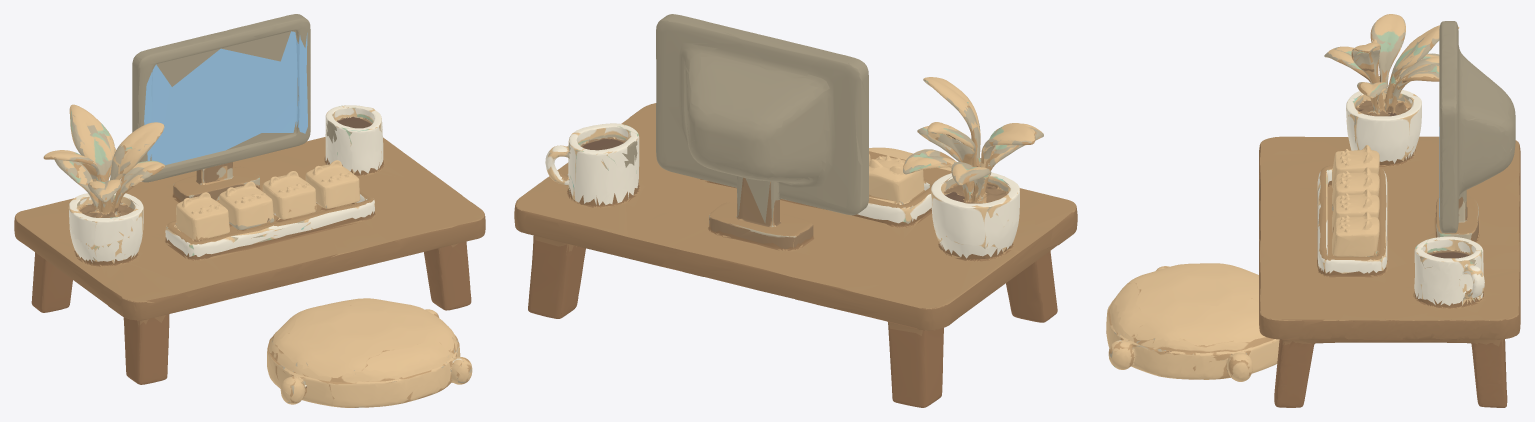
File: low-monitor-cat-keycap-workstation-noise-clean-v3.glb
3 views of the same model, side by side, from view 1: azimuth 30°, elevation 25°; view 2: azimuth 150°, elevation 25°; view 3: azimuth 270°, elevation 25° (orthographic). The views are drawn at different scales.
Parts seen in each view (by area): view 1: low-monitor-cat-keycap-workstation-noise-clean-v3; view 2: low-monitor-cat-keycap-workstation-noise-clean-v3; view 3: low-monitor-cat-keycap-workstation-noise-clean-v3.
Part boxes in pixels (x1,y1,x2,y2): low-monitor-cat-keycap-workstation-noise-clean-v3: (14, 14, 485, 407); low-monitor-cat-keycap-workstation-noise-clean-v3: (514, 14, 1077, 407); low-monitor-cat-keycap-workstation-noise-clean-v3: (1106, 14, 1520, 407).
Bounding box in the file's own units: 1.9 × 1.21 × 1.7.
7 materials, 1 textured.
